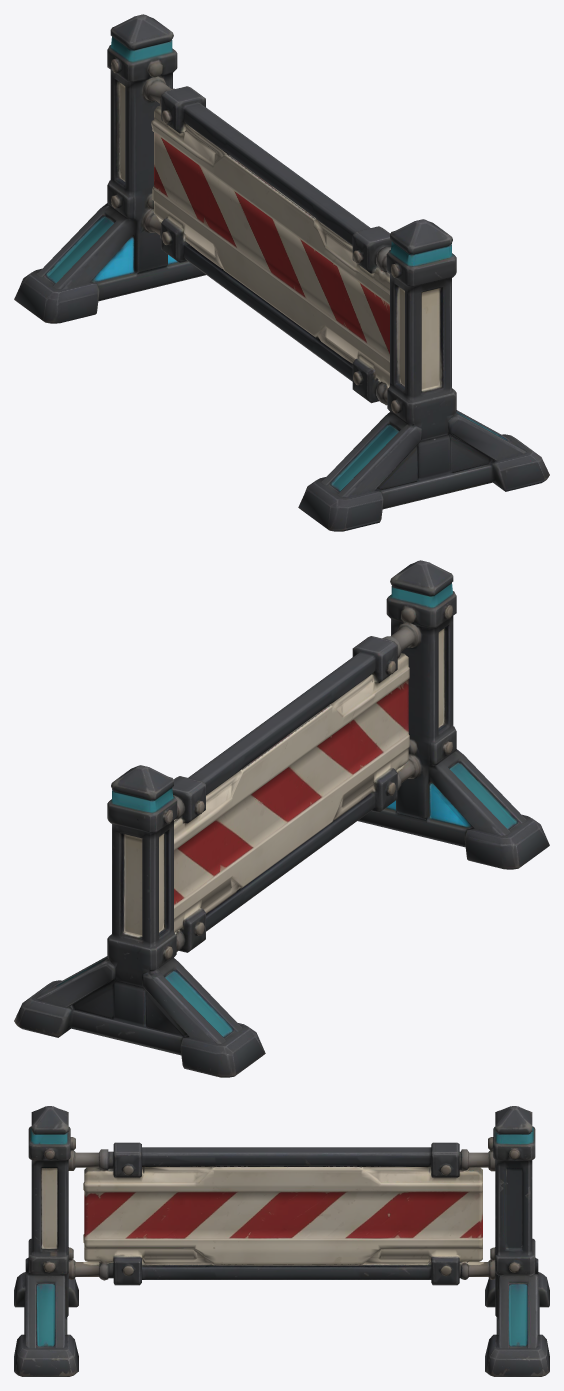
File: pack-barrier-gate.glb
The picture shows the model from 3 angles, top to bottom: view 1: azimuth 30°, elevation 25°; view 2: azimuth 150°, elevation 25°; view 3: azimuth 270°, elevation 25°; orthographic projection. The views are drawn at different scales.
Parts seen in each view (by area): view 1: tripo_node_3a72dc55-e129-4f4f-a3b6-4882ada95d89; view 2: tripo_node_3a72dc55-e129-4f4f-a3b6-4882ada95d89; view 3: tripo_node_3a72dc55-e129-4f4f-a3b6-4882ada95d89.
Part boxes in pixels (x1,y1,x2,y2): tripo_node_3a72dc55-e129-4f4f-a3b6-4882ada95d89: (14, 14, 549, 531); tripo_node_3a72dc55-e129-4f4f-a3b6-4882ada95d89: (14, 560, 549, 1077); tripo_node_3a72dc55-e129-4f4f-a3b6-4882ada95d89: (14, 1106, 549, 1376).
Bounding box in the file's own units: 0.3886 × 0.4537 × 0.9781.
Materials: 1 (1 with a texture image).
